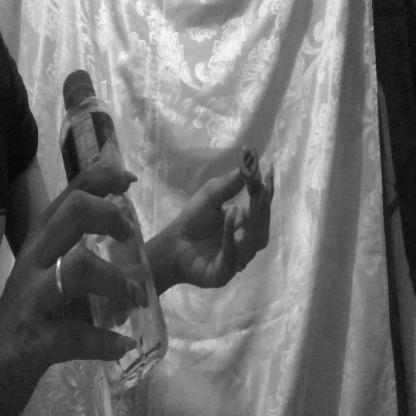Plastic Bottle: (58, 62, 171, 414)
